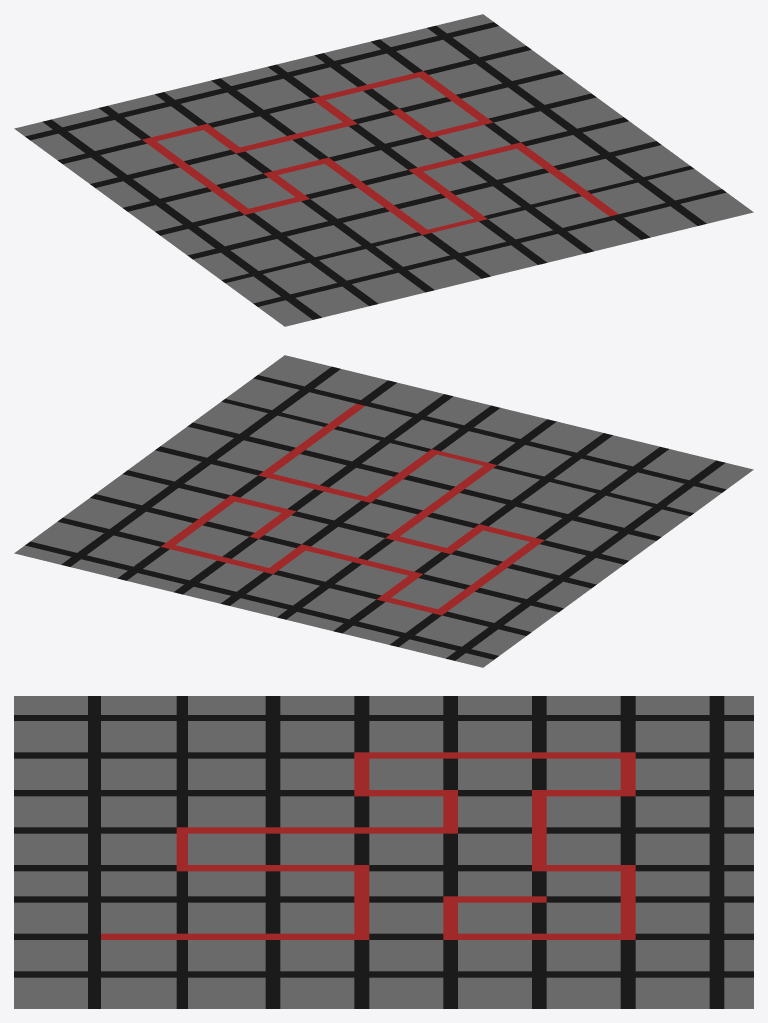
3 renders of one model, top to bottom at view 1: azimuth 30°, elevation 25°; view 2: azimuth 150°, elevation 25°; view 3: azimuth 270°, elevation 25°, orthographic. The views are drawn at different scales.
Parts seen in each view (by area): view 1: grid; view 2: grid; view 3: grid.
Boxes of the visible parts, x1,y1,x2,y2 form: grid: (14, 14, 753, 326); grid: (14, 355, 753, 667); grid: (14, 696, 753, 1008).
Size of the model in its own units: 91.44 by 5.6e-15 by 91.44.
